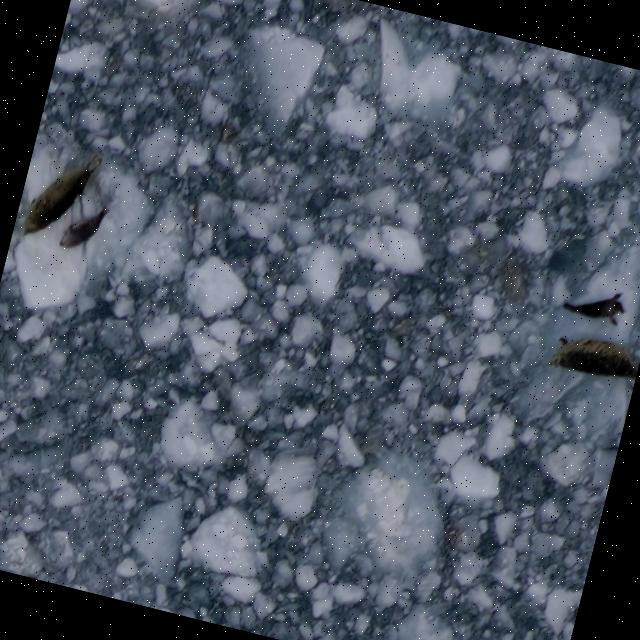seal: (13, 134, 105, 256), (541, 324, 640, 387), (53, 191, 115, 259), (557, 278, 629, 328)
